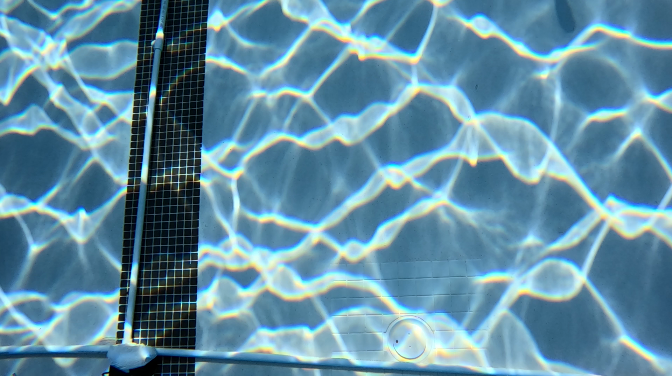sandbag: (109, 340, 162, 375)
